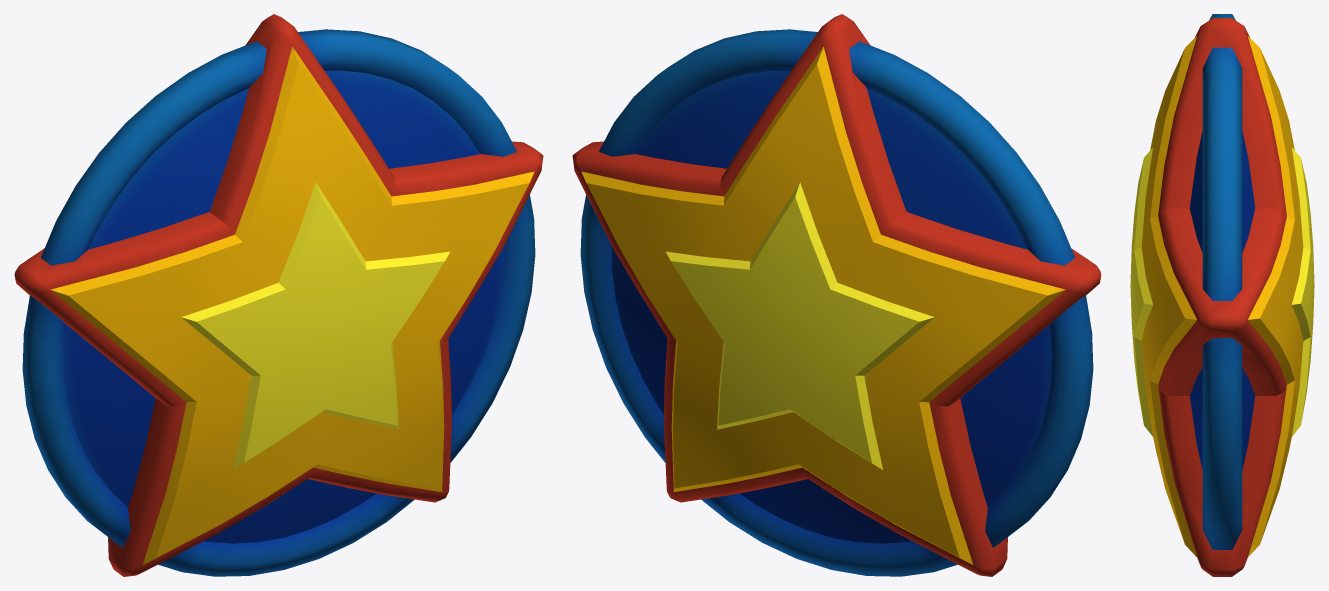
The model's file is star_final.glb.
3 renders of one model, left to right at view 1: azimuth 30°, elevation 25°; view 2: azimuth 150°, elevation 25°; view 3: azimuth 270°, elevation 25°, orthographic. The views are drawn at different scales.
Parts seen in each view (by area): view 1: star; view 2: star; view 3: star.
Boxes of the visible parts, left/top/right/bottom form: star: left=14, top=14, right=543, bottom=576; star: left=572, top=14, right=1101, bottom=576; star: left=1130, top=14, right=1314, bottom=576.
Bounding box in the file's own units: 1.01 × 1.02 × 0.3294.
1 material, 1 textured.
